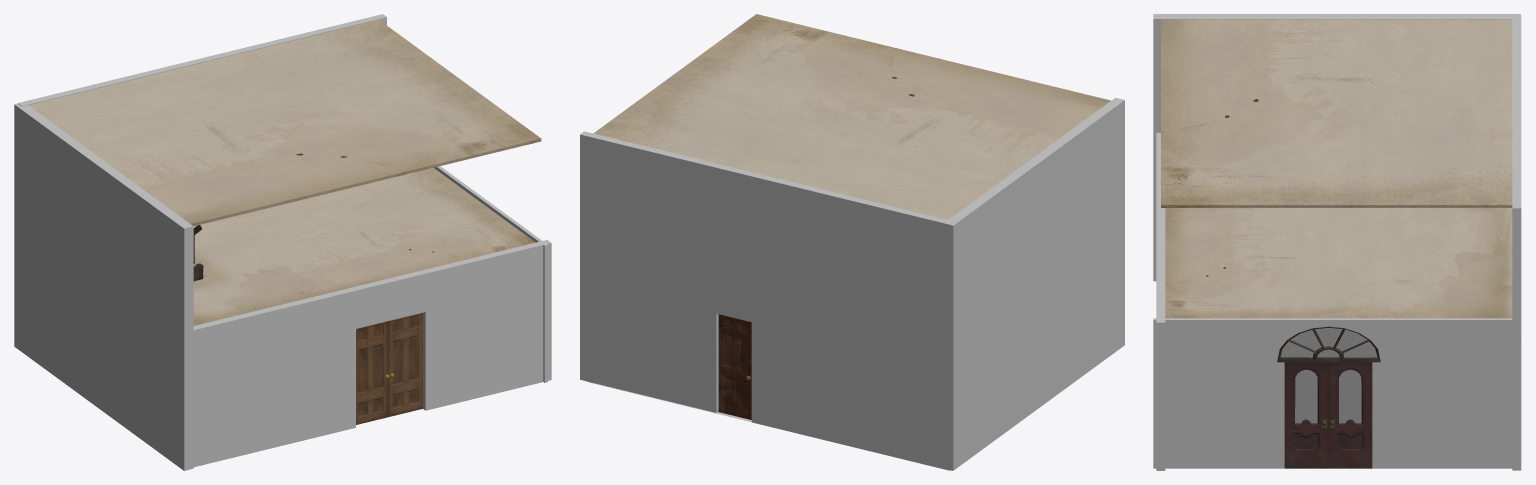
Rendered from FYP_foyer_trish_03.fbx.
The picture shows the model from 3 angles, left to right: view 1: azimuth 30°, elevation 25°; view 2: azimuth 150°, elevation 25°; view 3: azimuth 270°, elevation 25°; orthographic projection. The views are drawn at different scales.
Parts seen in each view (by area): view 1: ceiling_upper, wall_south, wall_east, ceiling, pasted__polySurface52, pasted__polySurface55, wall_west, wall_north; view 2: wall_west, ceiling_upper, wall_south, door; view 3: ceiling_upper, wall_north, ceiling, wall_west, polySurface21, polySurface18, wall_south, wall_east, polySurface33, polySurface34, polySurface20, polySurface19.
Boxes of the visible parts, x1,y1,x2,y2 form: ceiling_upper: [29, 20, 541, 226]; wall_south: [14, 103, 193, 470]; wall_east: [193, 240, 551, 467]; ceiling: [193, 168, 535, 325]; pasted__polySurface52: [388, 312, 422, 417]; pasted__polySurface55: [356, 321, 387, 424]; wall_west: [17, 14, 386, 106]; wall_north: [434, 166, 547, 382]; wall_west: [580, 131, 953, 470]; ceiling_upper: [593, 14, 1110, 219]; wall_south: [948, 97, 1124, 470]; door: [718, 314, 751, 419]; ceiling_upper: [1161, 19, 1512, 207]; wall_north: [1153, 318, 1512, 468]; ceiling: [1165, 208, 1512, 318]; wall_west: [1512, 15, 1521, 470]; polySurface21: [1284, 362, 1328, 468]; polySurface18: [1328, 362, 1372, 468]; wall_south: [1153, 14, 1520, 281]; wall_east: [1156, 132, 1165, 470]; polySurface33: [1280, 328, 1377, 357]; polySurface34: [1277, 326, 1380, 362]; polySurface20: [1295, 369, 1317, 423]; polySurface19: [1339, 369, 1361, 423].
Bounding box in the file's own units: 316 × 200 × 252.
